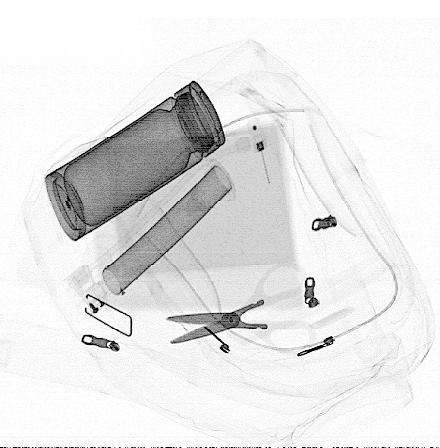Scissors: (164, 262, 319, 353)
